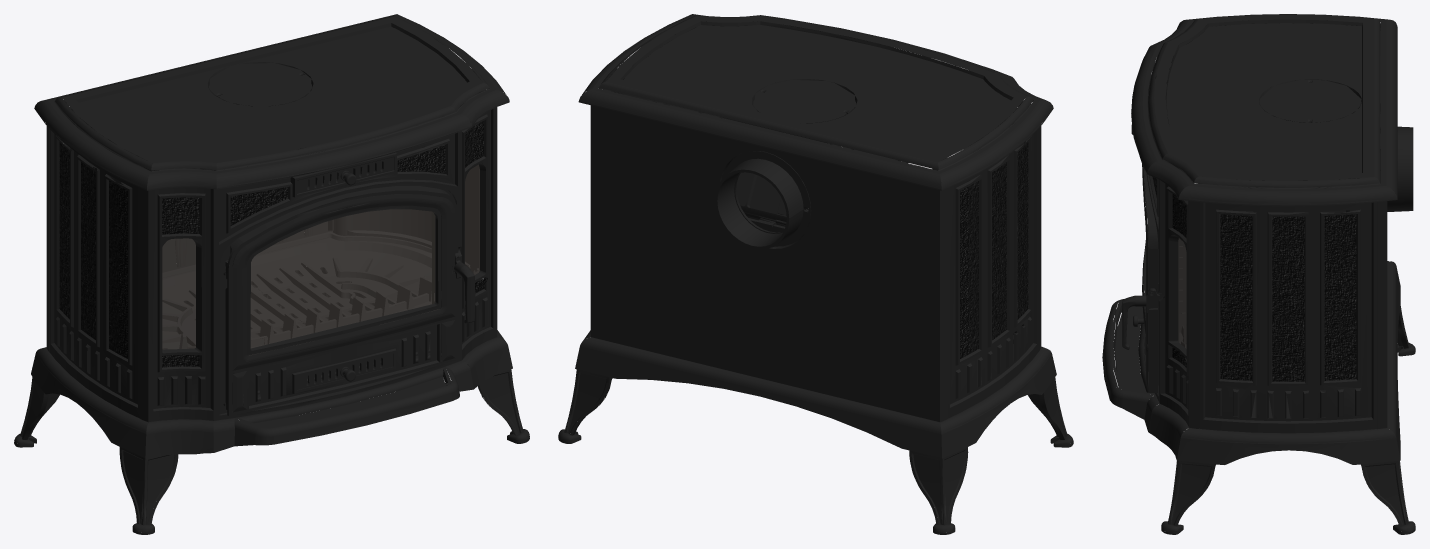
File: kamin.glb
The picture shows the model from 3 angles, left to right: view 1: azimuth 30°, elevation 25°; view 2: azimuth 150°, elevation 25°; view 3: azimuth 270°, elevation 25°; orthographic projection. The views are drawn at different scales.
Parts seen in each view (by area): view 1: Koza K9-C4D; view 2: Koza K9-C4D; view 3: Koza K9-C4D.
Boxes of the visible parts, bbox=[...] form: Koza K9-C4D: bbox=[14, 14, 529, 534]; Koza K9-C4D: bbox=[558, 14, 1073, 534]; Koza K9-C4D: bbox=[1102, 14, 1415, 534].
Bounding box in the file's own units: 0.7747 × 0.6595 × 0.5454.
Materials: 5 (1 with a texture image).
